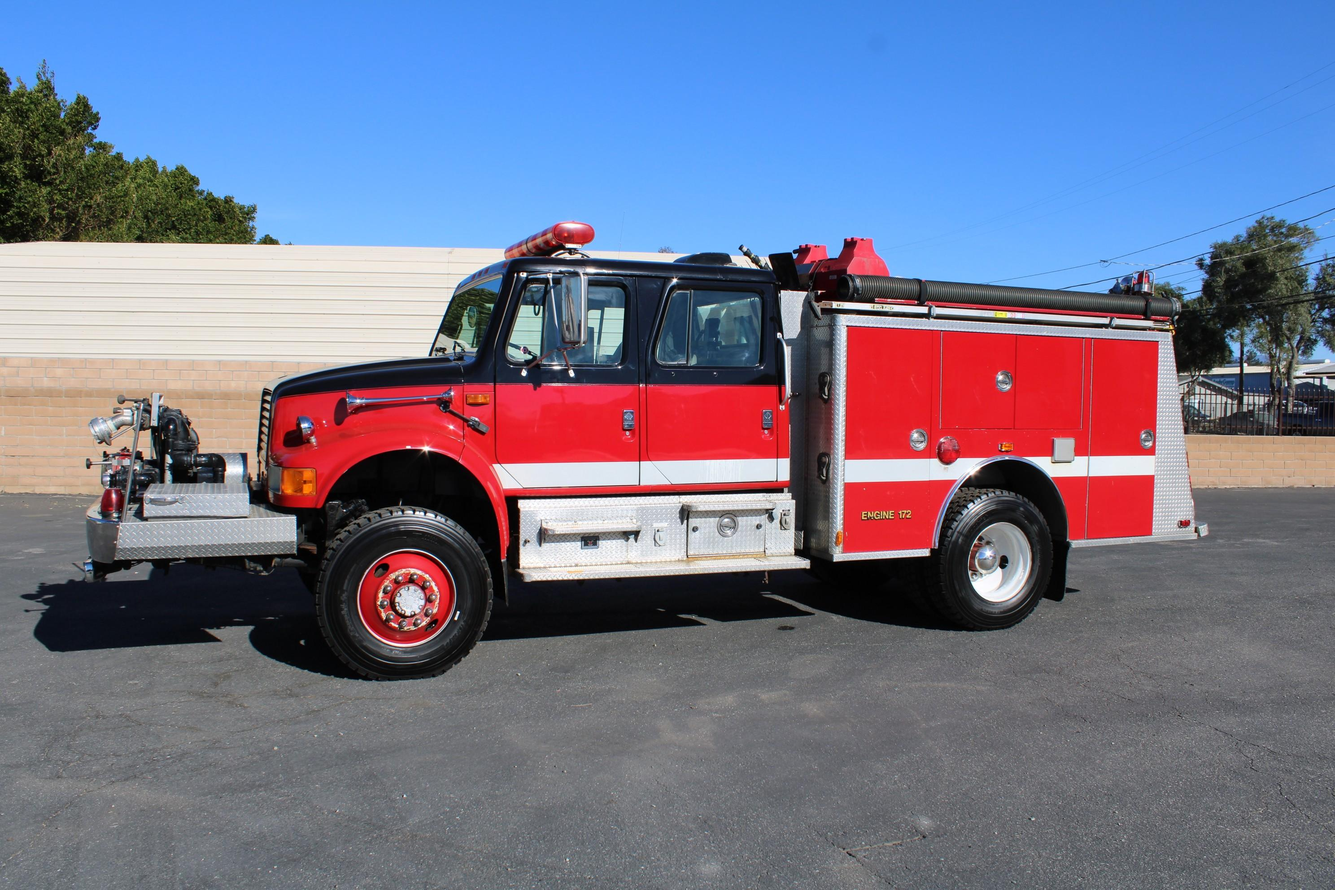Fire-engine: (77, 219, 1208, 681)
